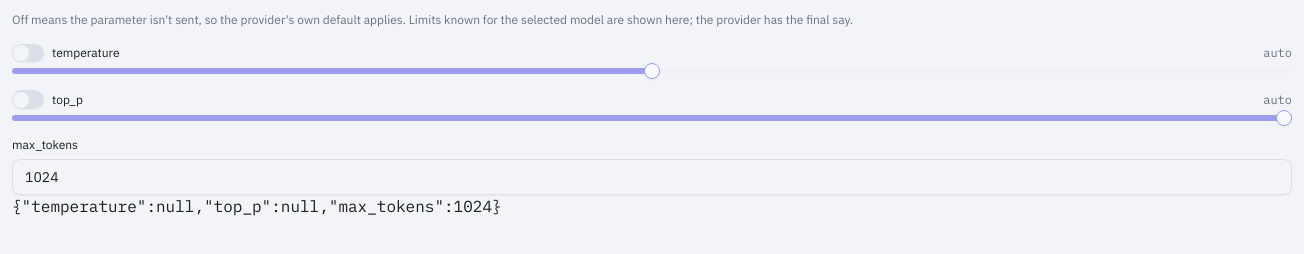
Test: ParametersPanel sampling rules › still flags a max_tokens out of range
The width and height of the screenshot is (1304, 254).
Replace the text in the number field labelled "max_tokens" with "300000": (652, 177) [12, 159, 1292, 195]
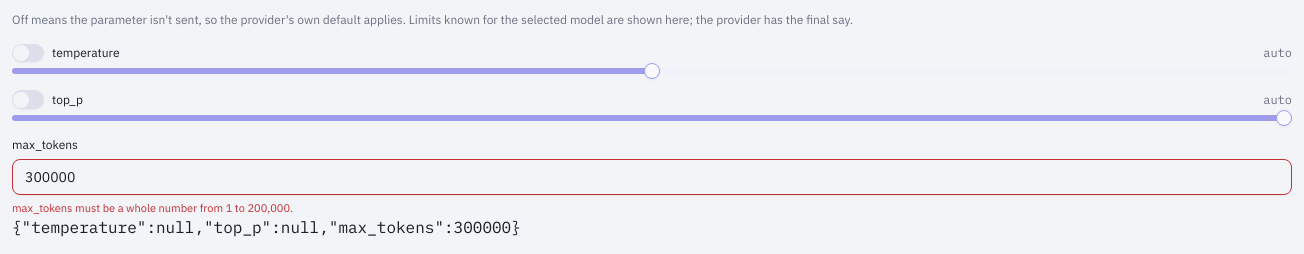
Now the message shows "max_tokens must be", box [12, 201, 226, 215]
